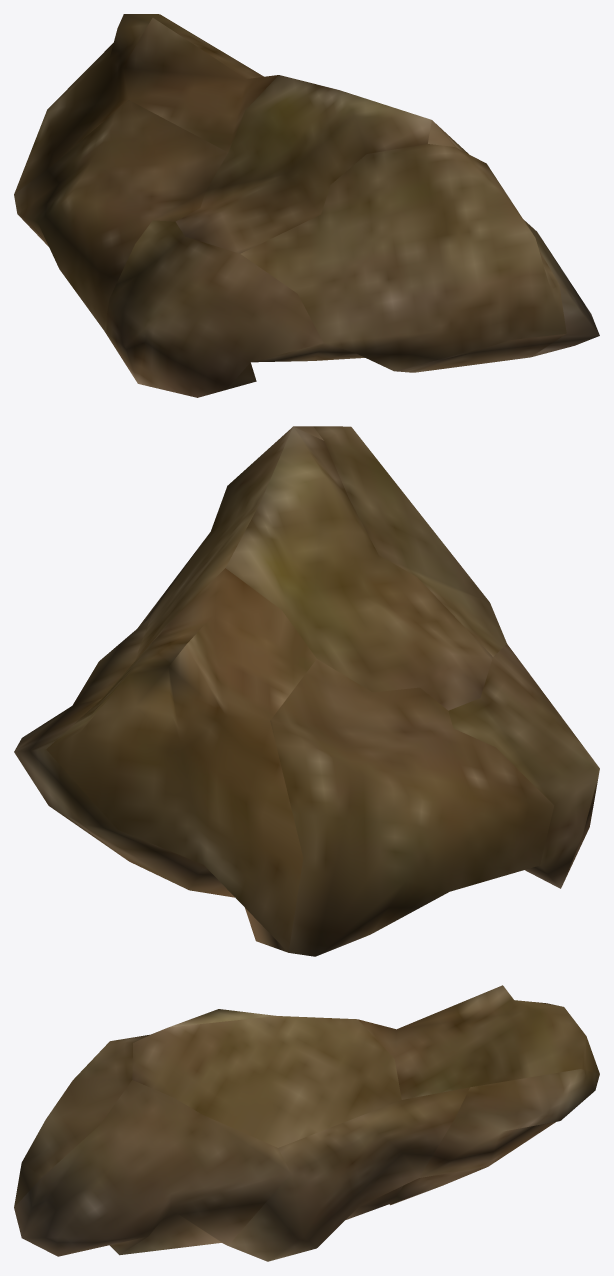
File: moss_a_far.glb
3 renders of one model, top to bottom at view 1: azimuth 30°, elevation 25°; view 2: azimuth 150°, elevation 25°; view 3: azimuth 270°, elevation 25°, orthographic. The views are drawn at different scales.
Parts seen in each view (by area): view 1: rock_moss_set_01_rock01; view 2: rock_moss_set_01_rock01; view 3: rock_moss_set_01_rock01.
Part boxes in pixels (x1,y1,x2,y2): rock_moss_set_01_rock01: (14, 14, 599, 397); rock_moss_set_01_rock01: (14, 426, 599, 956); rock_moss_set_01_rock01: (14, 985, 599, 1261).
Bounding box in the file's own units: 2.23 × 1.43 × 3.36.
1 material, 1 textured.
